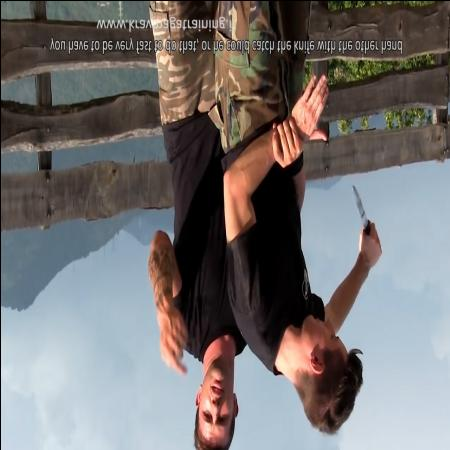long weapon: (346, 180, 383, 261)
